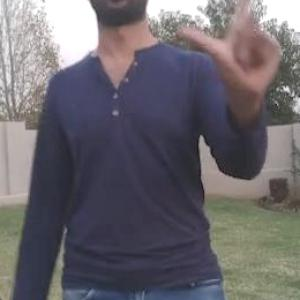land_hand: (173, 0, 289, 117)
